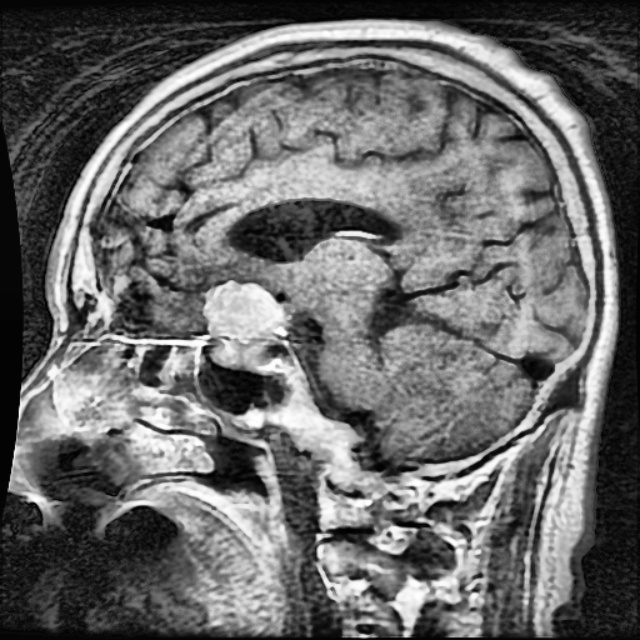Pituitary: (205, 279, 287, 364)
